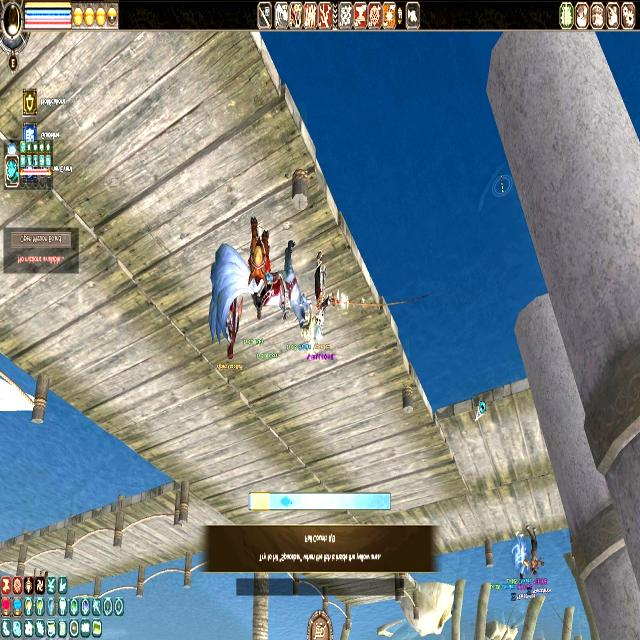fishes: (280, 496, 293, 508)
